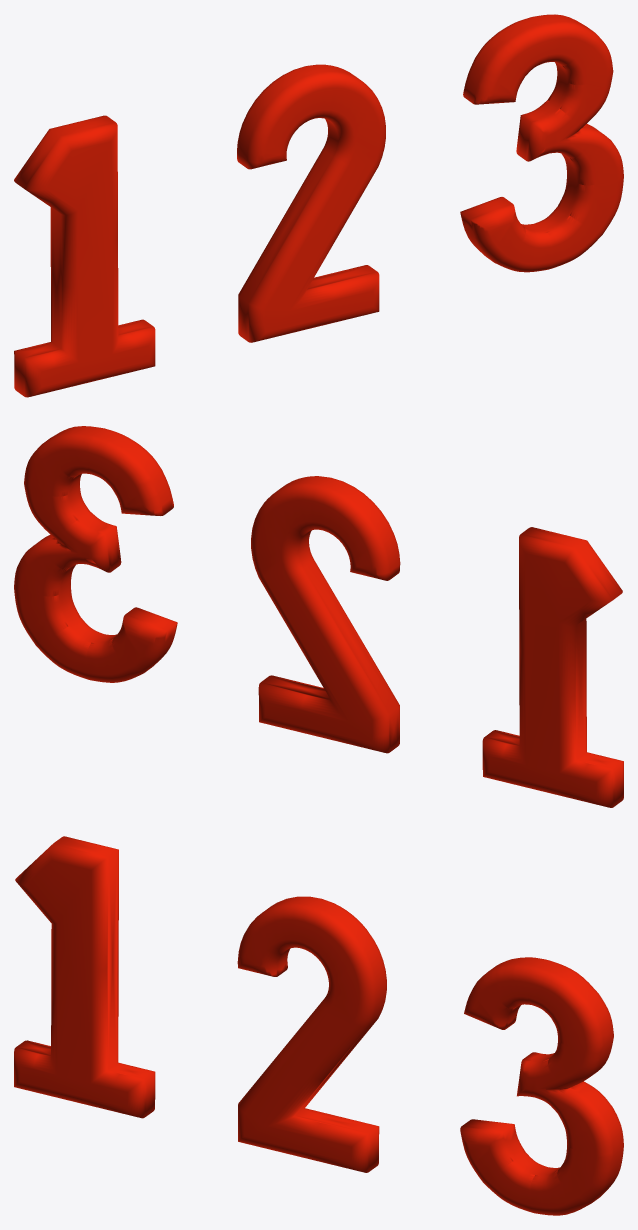
3 views of the same model, one above another, from view 1: azimuth 30°, elevation 25°; view 2: azimuth 150°, elevation 25°; view 3: azimuth 330°, elevation 25° (orthographic).
Parts seen in each view (by area): view 1: Body1, Body4, Body2; view 2: Body1, Body4, Body2; view 3: Body4, Body1, Body2.
Part boxes in pixels (<box>): Body1: <box>237,64,385,342</box>; Body4: <box>460,14,623,272</box>; Body2: <box>14,115,155,397</box>; Body1: <box>251,476,400,753</box>; Body4: <box>14,426,177,682</box>; Body2: <box>482,527,623,807</box>; Body4: <box>460,957,623,1215</box>; Body1: <box>237,896,386,1172</box>; Body2: <box>14,836,155,1118</box>.
Size of the model in its own units: 0.1619 by 0.0651 by 0.0104.
